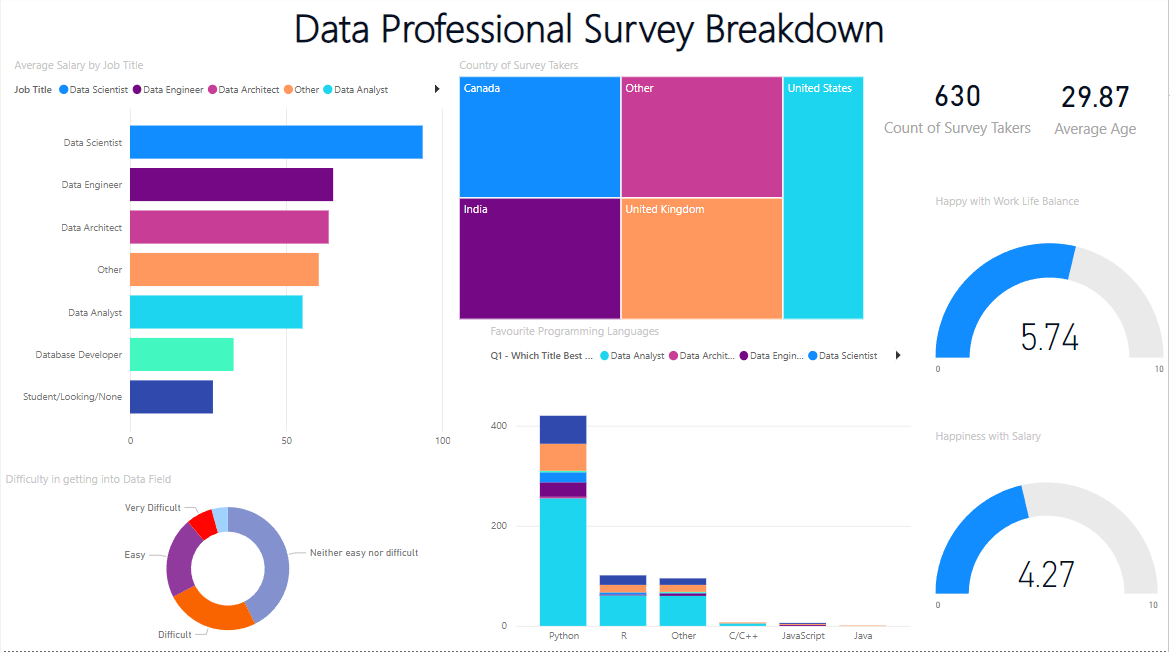

The dashboard page shown, as its layout file describes it:
{"tool":"powerbi","page":{"name":"Page 1","canvas":[1280,720],"ordinal":0},"visuals":[{"type":"textbox","box":[9.6,0,1271,67.2],"z":0},{"type":"card","fields":{"Values":["Count(Data Professional Survey.Unique ID)"]},"box":[962.5,65.8,172.8,105.6],"z":1000},{"type":"card","fields":{"Values":["Avg(Data Professional Survey.Q10 - Current Age)"]},"box":[1120.1,67.2,160.4,104.2],"z":2000},{"type":"barChart","title":"Average Salary by Job Title","fields":{"Category":["Data Professional Survey.Q1 - Which Title Best Fits your Current Role?.1"],"Y":["Avg(Data Professional Survey.average salary)"],"Series":["Data Professional Survey.Q1 - Which Title Best Fits your Current Role?.1"]},"box":[9.6,68.6,488.1,437.4],"z":3000},{"type":"columnChart","title":"Favourite Programming Languages","fields":{"Category":["Data Professional Survey.Q5 - Favorite Programming Language.1"],"Y":["CountNonNull(Data Professional Survey.Unique ID)"],"Series":["Data Professional Survey.Q1 - Which Title Best Fits your Current Role?.1"]},"box":[532,360.6,471.6,359.2],"z":3001},{"type":"treemap","title":"Country of Survey Takers","fields":{"Group":["Data Professional Survey.Q11 - Which Country do you live in?.1"],"Values":["Count(Data Professional Survey.Q11 - Which Country do you live in?.1)"]},"box":[497.7,68.6,453.8,292],"z":3002},{"type":"gauge","title":"Happy with Work Life Balance","fields":{"Y":["Avg(Data Professional Survey.Q6 - How Happy are you in your Current Position with the following? (Work/Life Balance))"],"MinValue":["Min(Data Professional Survey.Q6 - How Happy are you in your Current Position with the following? (Work/Life Balance))1"],"MaxValue":["Max(Data Professional Survey.Q6 - How Happy are you in your Current Position with the following? (Work/Life Balance))2"]},"box":[1020.1,218,260.5,238.6],"z":3003},{"type":"gauge","title":"Happiness with Salary","fields":{"Y":["Avg(Data Professional Survey.Q6 - How Happy are you in your Current Position with the following? (Salary))"],"MinValue":["Min(Data Professional Survey.Q6 - How Happy are you in your Current Position with the following? (Salary))"],"MaxValue":["Max(Data Professional Survey.Q6 - How Happy are you in your Current Position with the following? (Salary))"]},"box":[1020.1,475.8,253.6,244],"z":3004},{"type":"donutChart","title":"Difficulty in getting into Data Field","fields":{"Category":["Data Professional Survey.Q7 - How difficult was it for you to break into Data?"],"Y":["CountNonNull(Data Professional Survey.Q7 - How difficult was it for you to break into Data?)"]},"box":[0,522.4,497.7,197.4],"z":3005}]}

Visuals, with their boxes in screenshot pixels (x1, y1, x2, y2), scaled from the page's 1280x720 canvas onto the 1170x652 screenshot:
textbox: rect(9, 0, 1169, 61)
card - Count(Data Professional Survey.Unique ID): rect(880, 60, 1038, 155)
card - Avg(Data Professional Survey.Q10 - Current Age): rect(1024, 61, 1169, 155)
"Average Salary by Job Title" barChart: rect(9, 62, 455, 458)
"Favourite Programming Languages" columnChart: rect(486, 327, 917, 651)
"Country of Survey Takers" treemap: rect(455, 62, 870, 327)
"Happy with Work Life Balance" gauge: rect(932, 197, 1169, 413)
"Happiness with Salary" gauge: rect(932, 431, 1164, 651)
"Difficulty in getting into Data Field" donutChart: rect(0, 473, 455, 651)
